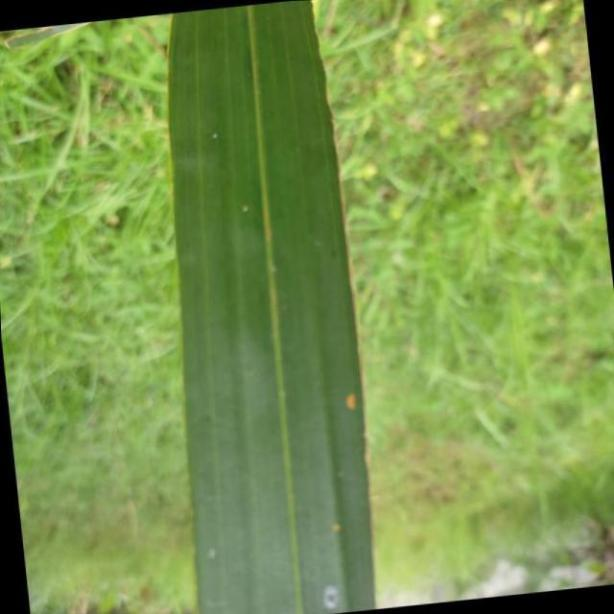Kalium: (166, 0, 373, 614)
